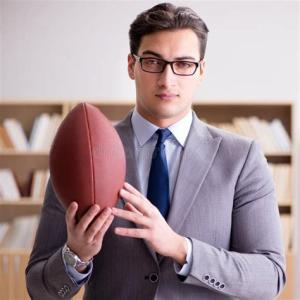Rugby: (50, 102, 126, 222)
